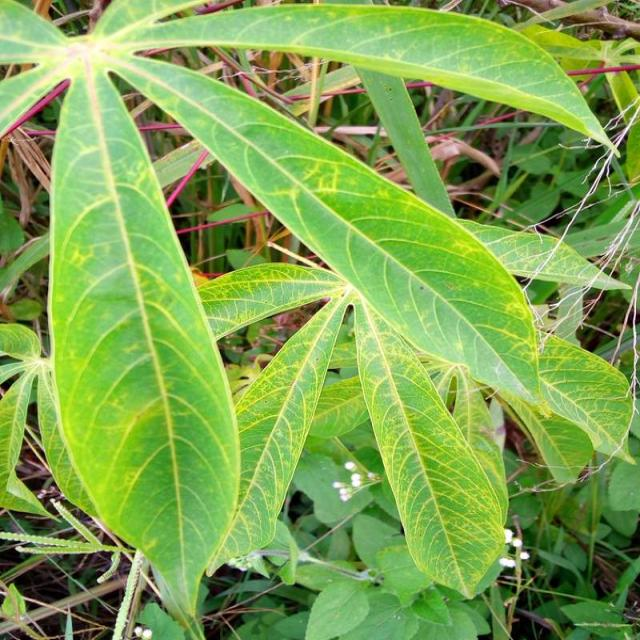cassava leaf: (2, 2, 636, 627), (46, 56, 242, 634), (351, 290, 508, 600)
